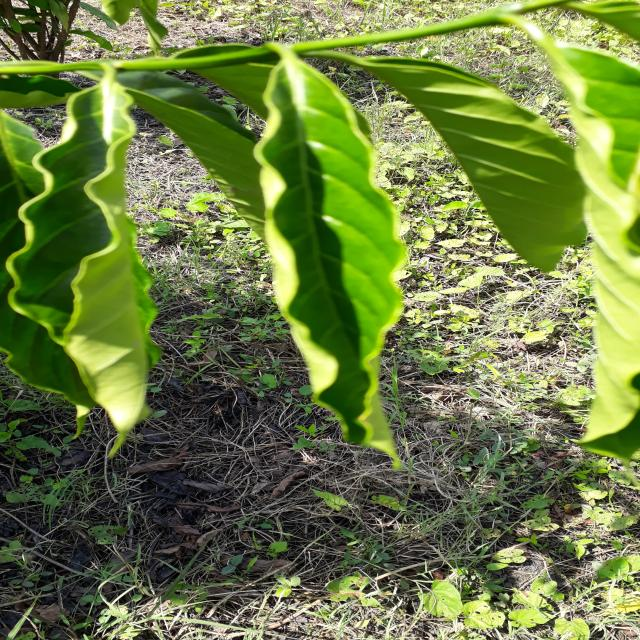Sanas: (246, 45, 407, 467)
